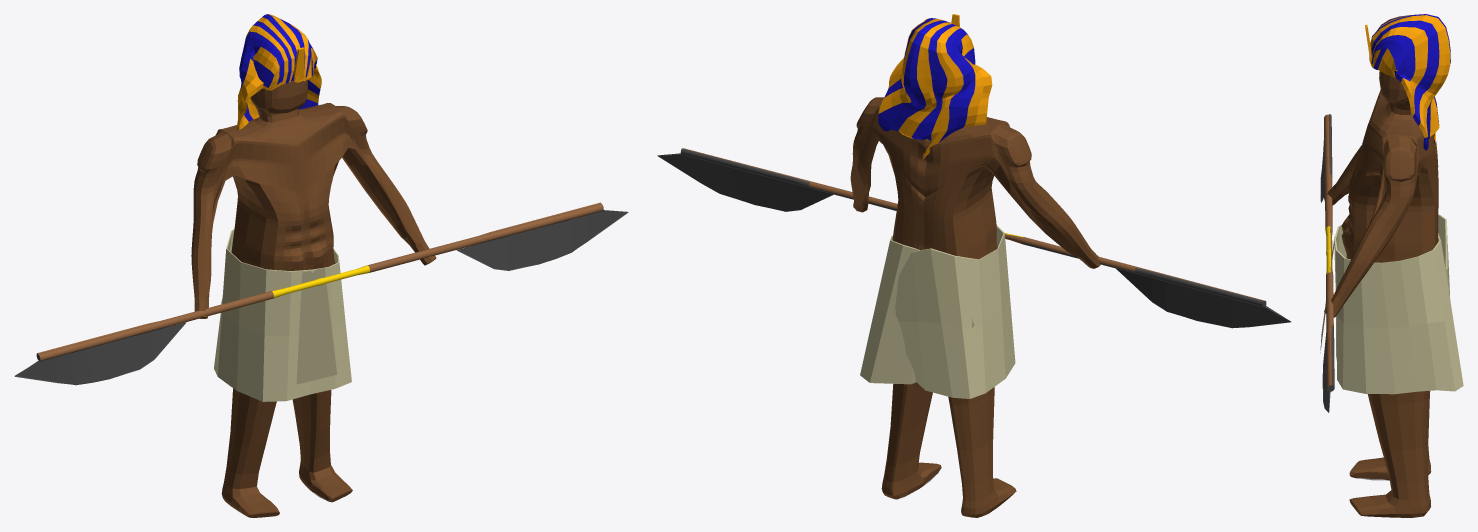
Rendered from hrdina_starověk.fbx.
3 views of the same model, side by side, from view 1: azimuth 30°, elevation 25°; view 2: azimuth 150°, elevation 25°; view 3: azimuth 270°, elevation 25° (orthographic). The views are drawn at different scales.
Parts seen in each view (by area): view 1: Cube, Cylinder, Plane, Plane.002, Plane.001; view 2: Cube, Plane, Cylinder, Plane.002; view 3: Cube, Plane, Plane.002, Cylinder.
Boxes of the visible parts, <box> form: Cube: <box>191,80,436,517</box>; Cylinder: <box>14,202,628,385</box>; Plane: <box>214,229,351,401</box>; Plane.002: <box>236,14,321,129</box>; Plane.001: <box>296,268,337,384</box>; Cube: <box>850,97,1100,517</box>; Plane: <box>860,225,1015,398</box>; Cylinder: <box>657,148,1291,328</box>; Plane.002: <box>878,18,992,159</box>; Cube: <box>1324,71,1438,517</box>; Plane: <box>1334,214,1463,394</box>; Plane.002: <box>1369,14,1450,150</box>; Cylinder: <box>1320,114,1334,412</box>.
Bounding box in the file's own units: 487 × 355 × 95.57.
